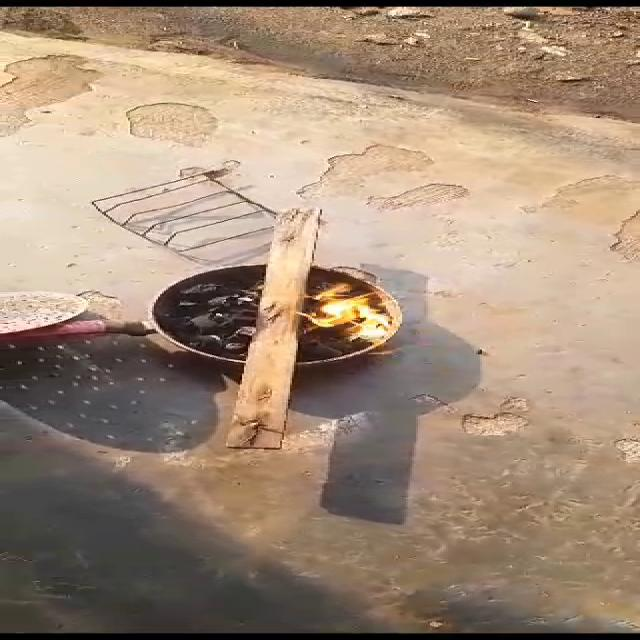Fire: (293, 264, 420, 360)
